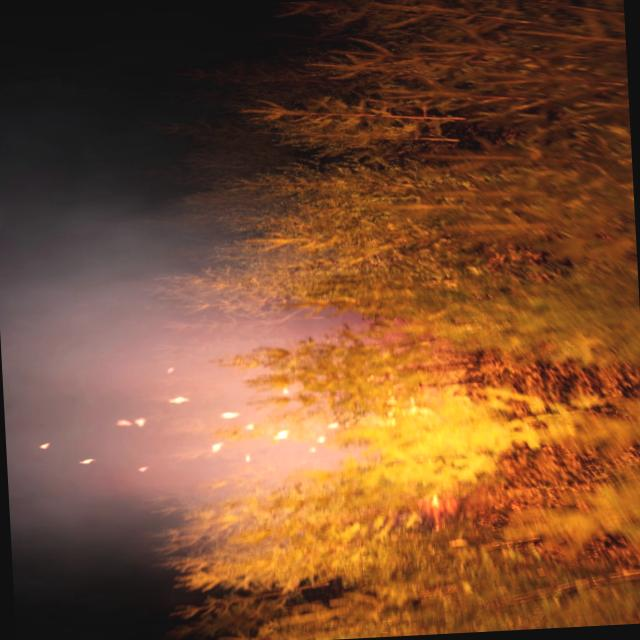fire: (23, 328, 576, 542)
smoke: (0, 192, 314, 563)
